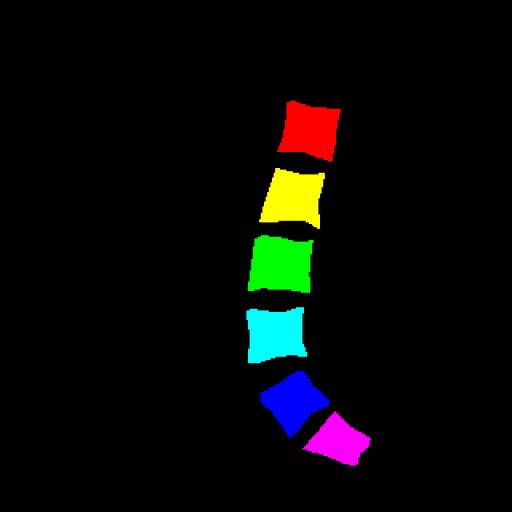L1: (277, 102, 341, 162)
L2: (259, 168, 325, 229)
L3: (248, 235, 312, 293)
L4: (246, 307, 307, 362)
L5: (260, 371, 329, 438)
S1: (303, 412, 371, 466)
